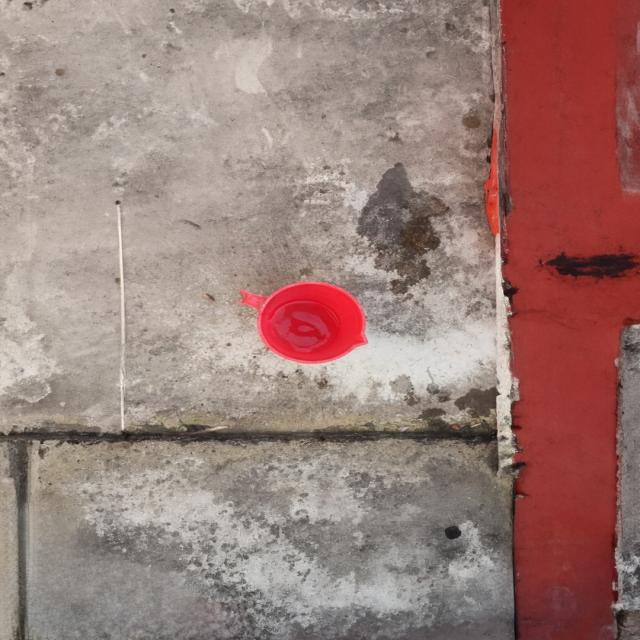Breeding Place: (216, 265, 404, 379)
